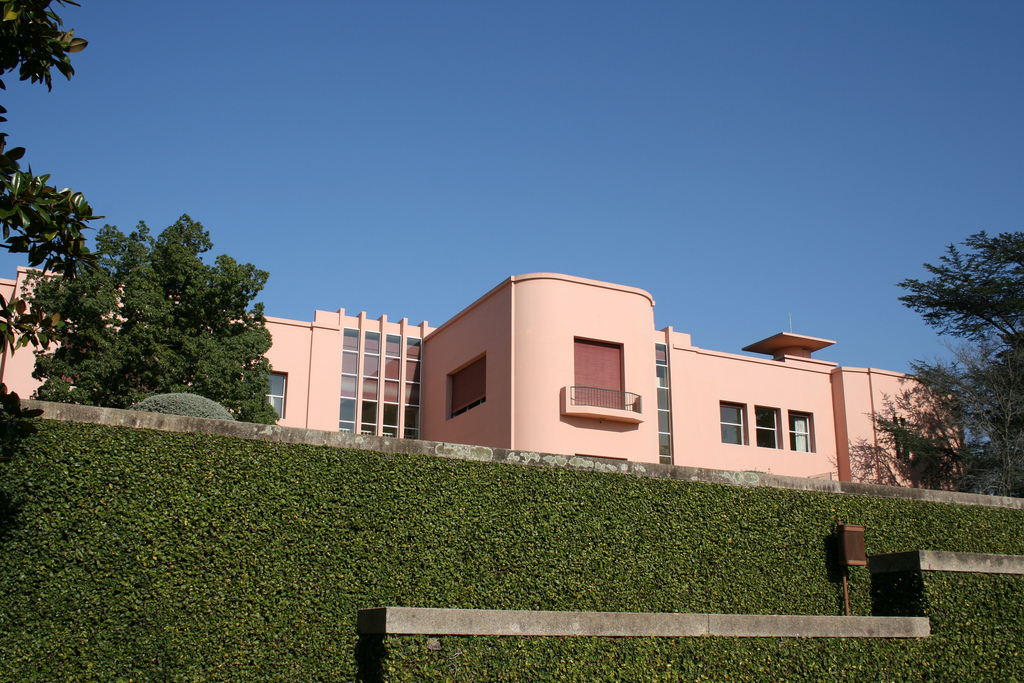serralves: (0, 262, 1023, 493)
